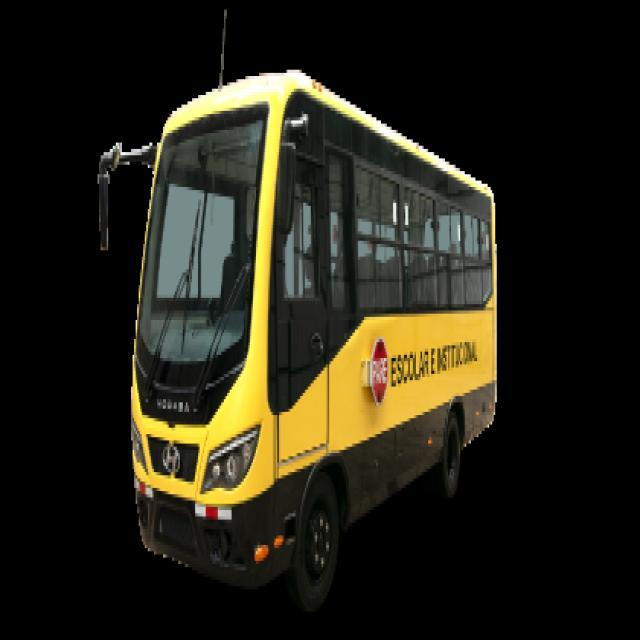BUS: (93, 61, 501, 622)
